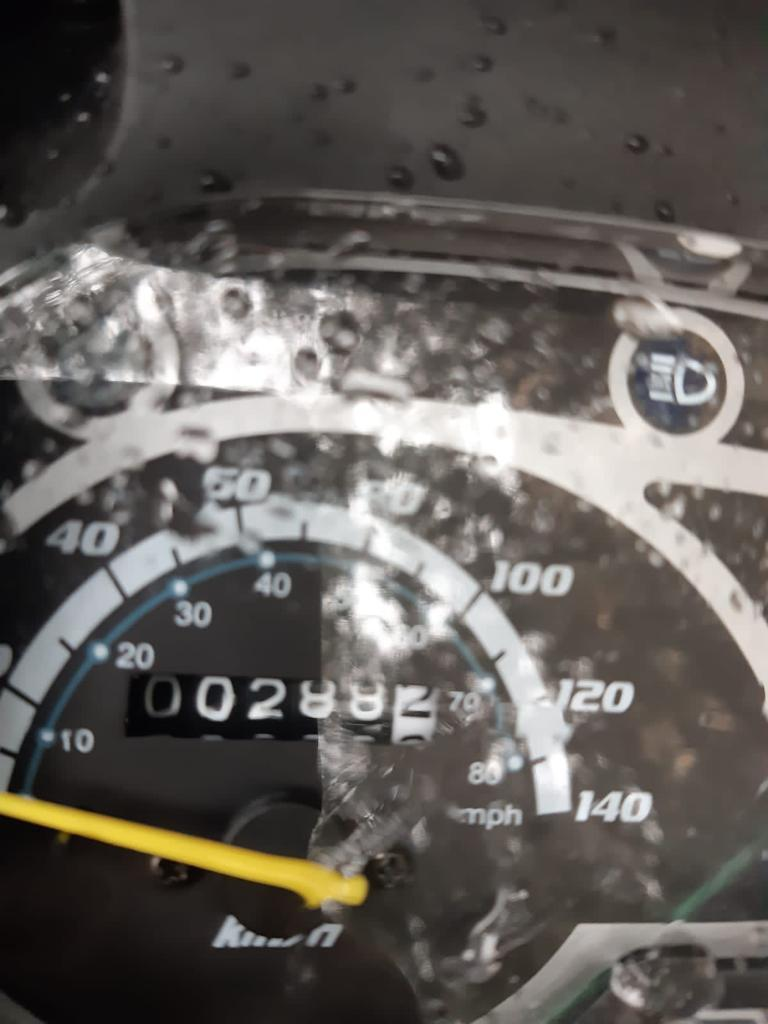0: (191, 670, 242, 730), (143, 671, 183, 723)
2: (246, 674, 290, 726), (399, 674, 440, 728)
8: (346, 674, 388, 726), (298, 672, 338, 723)
odometer: (129, 661, 451, 748)
